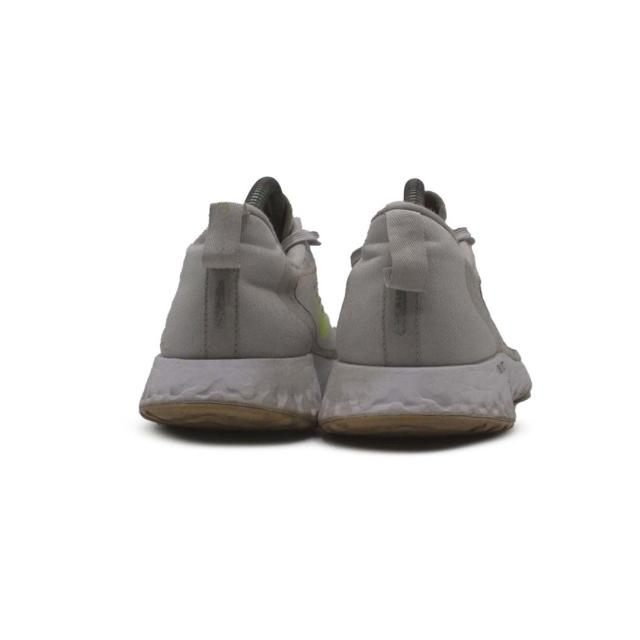heel: (334, 200, 502, 365), (162, 204, 312, 359)
midsole: (319, 352, 532, 429), (135, 355, 317, 427)
